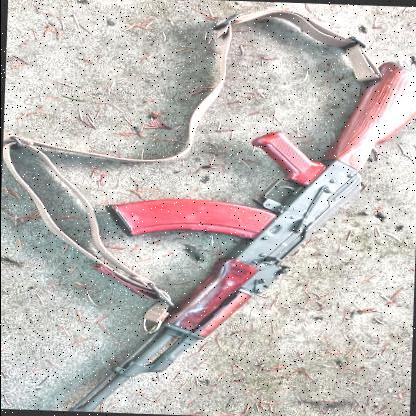rifle: (43, 26, 416, 416)
